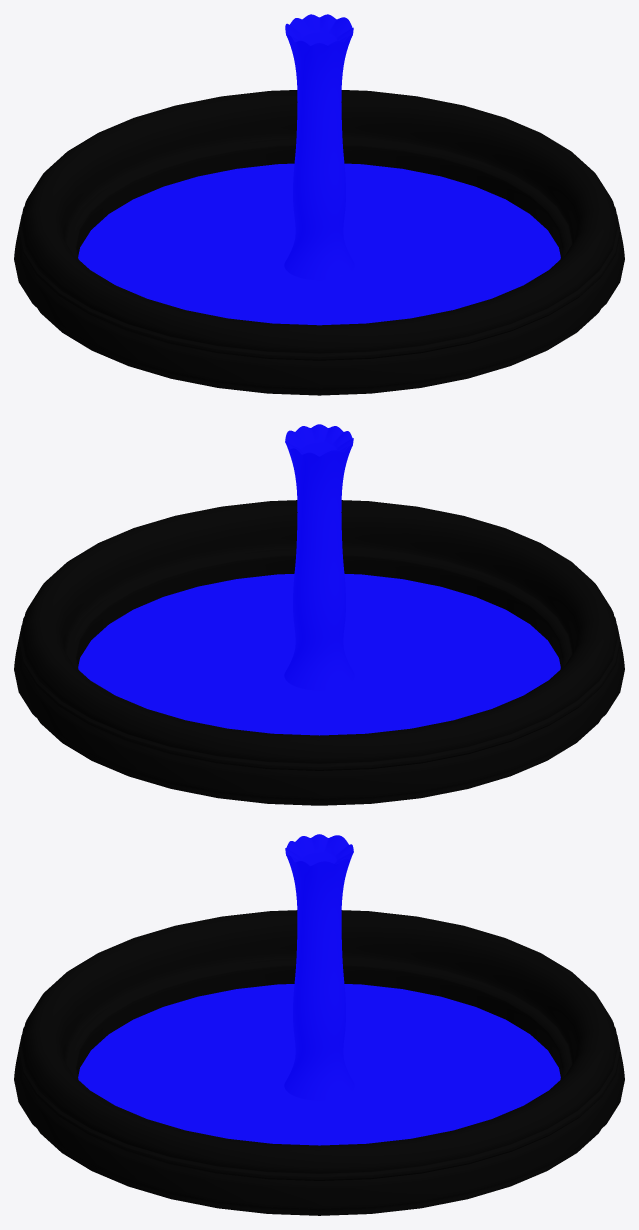
Rendered from Brunnen.fbx.
The picture shows the model from 3 angles, top to bottom: view 1: azimuth 30°, elevation 25°; view 2: azimuth 150°, elevation 25°; view 3: azimuth 270°, elevation 25°; orthographic projection.
Visible parts, largest first — view 1: Brunnen_Export; view 2: Brunnen_Export; view 3: Brunnen_Export.
Boxes of the visible parts, x1,y1,x2,y2 form: Brunnen_Export: [14, 14, 624, 395]; Brunnen_Export: [14, 424, 624, 805]; Brunnen_Export: [14, 834, 624, 1215].
Size of the model in its own units: 1130 by 498 by 1130.
